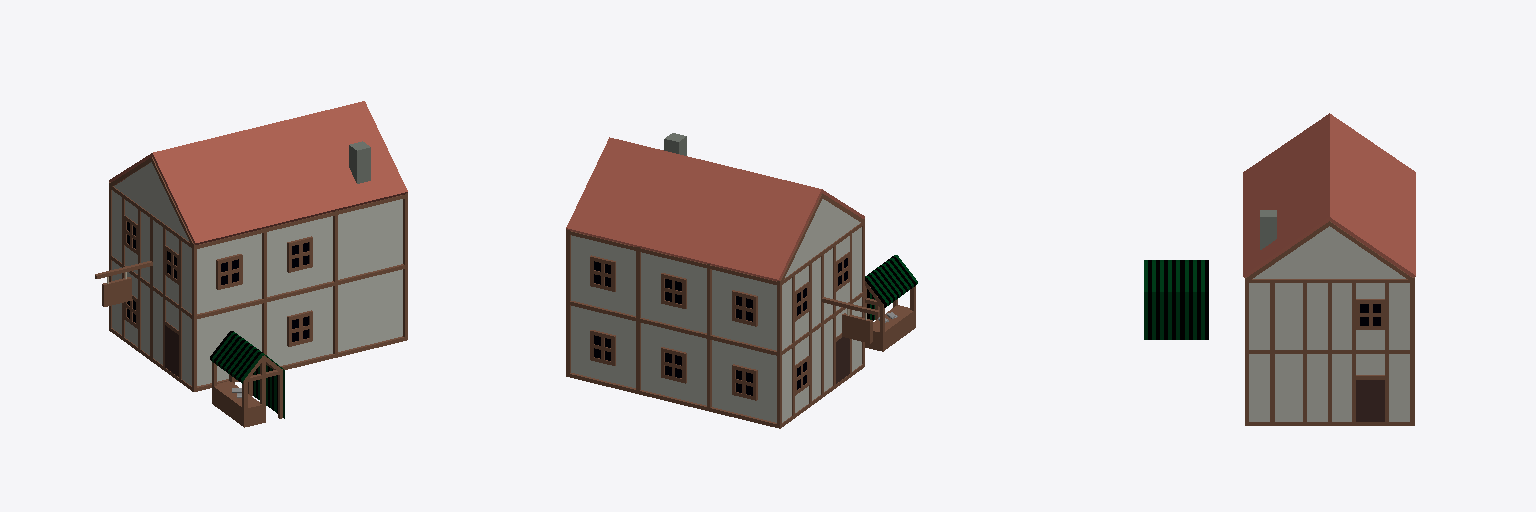
Rendered from timberframedclothier_black_green.obj.
3 renders of one model, left to right at view 1: azimuth 30°, elevation 25°; view 2: azimuth 150°, elevation 25°; view 3: azimuth 270°, elevation 25°, orthographic.
Visible parts, largest first — view 1: Cube.005, Cube.007_Cube.011, Cube.011_Cube.015, Cube.018_Cube.016, Cube.056_Cube.081, Cube.001_Cube.058, Cube.013_Cube.080, Cube.006_Cube.010, Cube.055_Cube.059, Cube.026_Cube.019, Cube.073_Cube.078, Cube.012_Cube.017 (+5 smaller); view 2: Cube.005, Cube.007_Cube.011, Cube.023_Cube.026, Cube.022_Cube.025, Cube.021_Cube.024, Cube.015_Cube.020, Cube.019_Cube.022, Cube.017_Cube.021, Cube.014_Cube.018, Cube.008, Cube.020_Cube.023, Cube.073_Cube.078 (+6 smaller); view 3: Cube.005, Cube.007_Cube.011, Cube.147_Cube.153, Cube.003, Cube.033, Cube.027, Cube.047_Cube.049, Cube.031, Cube.016_Cube.013, Cube.006_Cube.010, Cube.012_Cube.017, Cube.035 (+4 smaller).
Boxes of the visible parts, x1=… form: Cube.005: x1=112, y1=162, x2=402, y2=385; Cube.007_Cube.011: x1=109, y1=101, x2=407, y2=244; Cube.011_Cube.015: x1=195, y1=264, x2=406, y2=319; Cube.018_Cube.016: x1=195, y1=195, x2=406, y2=249; Cube.056_Cube.081: x1=216, y1=254, x2=242, y2=289; Cube.001_Cube.058: x1=287, y1=310, x2=312, y2=346; Cube.013_Cube.080: x1=287, y1=236, x2=312, y2=272; Cube.006_Cube.010: x1=349, y1=141, x2=370, y2=183; Cube.055_Cube.059: x1=197, y1=336, x2=406, y2=391; Cube.026_Cube.019: x1=192, y1=243, x2=196, y2=391; Cube.073_Cube.078: x1=102, y1=277, x2=131, y2=306; Cube.012_Cube.017: x1=403, y1=193, x2=407, y2=339; Cube.005: x1=571, y1=199, x2=861, y2=422; Cube.007_Cube.011: x1=566, y1=137, x2=864, y2=280; Cube.023_Cube.026: x1=567, y1=373, x2=776, y2=427; Cube.022_Cube.025: x1=567, y1=301, x2=776, y2=355; Cube.021_Cube.024: x1=570, y1=231, x2=776, y2=284; Cube.015_Cube.020: x1=732, y1=290, x2=757, y2=326; Cube.019_Cube.022: x1=661, y1=347, x2=686, y2=383; Cube.017_Cube.021: x1=590, y1=330, x2=615, y2=365; Cube.014_Cube.018: x1=661, y1=273, x2=686, y2=308; Cube.008: x1=590, y1=255, x2=615, y2=291; Cube.020_Cube.023: x1=732, y1=364, x2=757, y2=400; Cube.073_Cube.078: x1=842, y1=313, x2=872, y2=343; Cube.005: x1=1249, y1=226, x2=1409, y2=421; Cube.007_Cube.011: x1=1243, y1=113, x2=1415, y2=277; Cube.147_Cube.153: x1=1144, y1=292, x2=1208, y2=339; Cube.003: x1=1356, y1=380, x2=1384, y2=421; Cube.033: x1=1356, y1=299, x2=1384, y2=329; Cube.027: x1=1410, y1=277, x2=1414, y2=425; Cube.047_Cube.049: x1=1270, y1=279, x2=1274, y2=423; Cube.031: x1=1249, y1=422, x2=1410, y2=425; Cube.016_Cube.013: x1=1248, y1=350, x2=1409, y2=353; Cube.006_Cube.010: x1=1260, y1=210, x2=1276, y2=249; Cube.012_Cube.017: x1=1245, y1=277, x2=1248, y2=425; Cube.035: x1=1352, y1=279, x2=1355, y2=423.
Bounding box in the file's own units: 15.3 × 11.25 × 13.34.